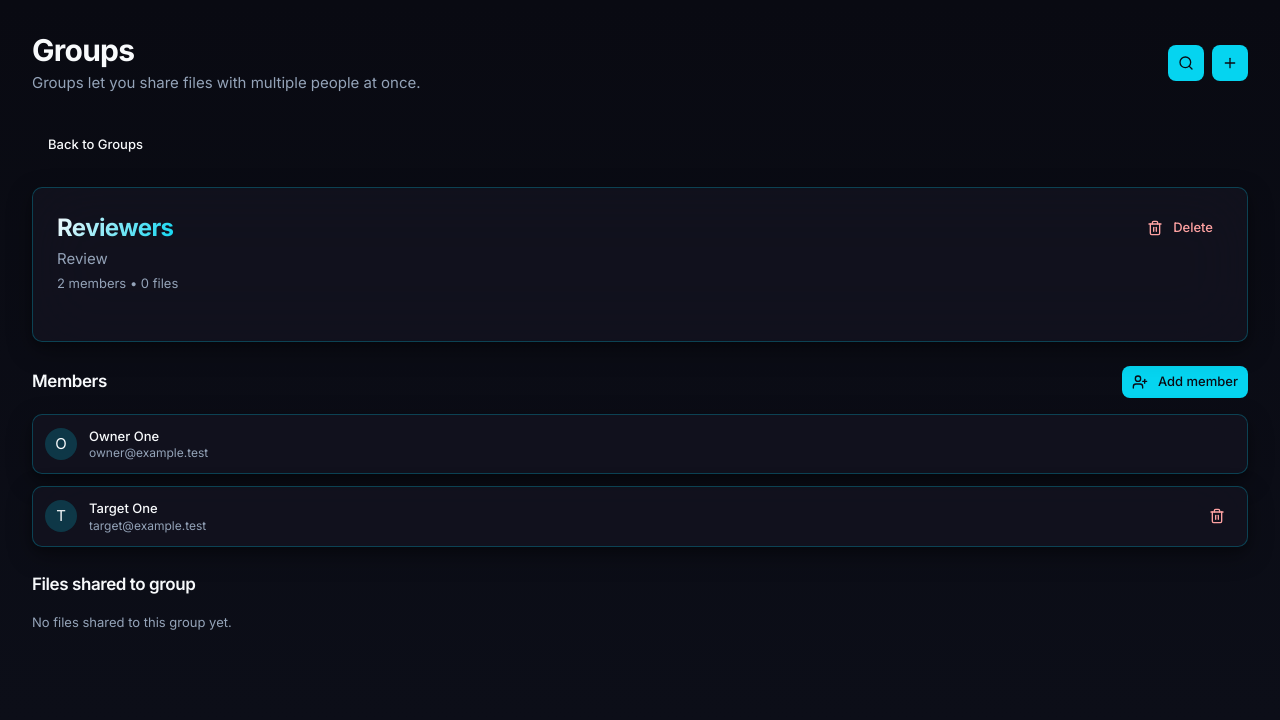
Test case: Groups data state › keeps the member visible and shows an alert when removal is not confirmed
Click the button named "Remove target" at (1217, 516), box 1199,500 -> 1235,532
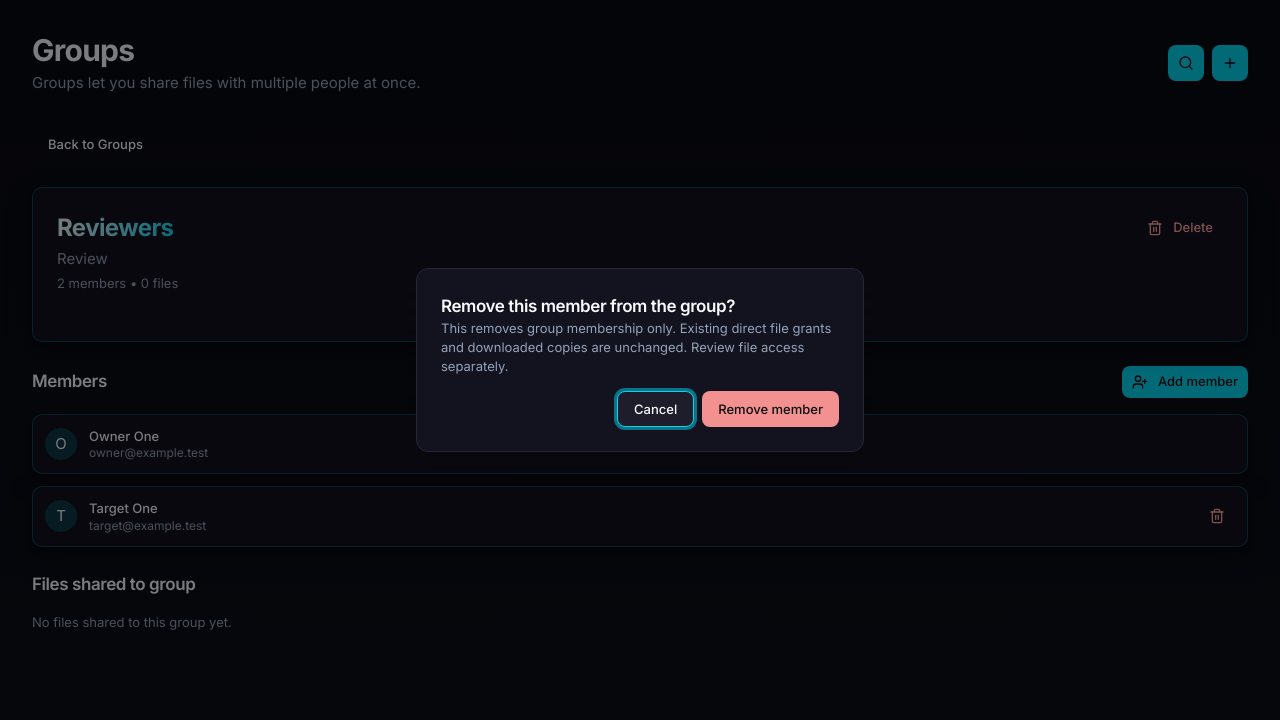
Click the button "Remove member" at (771, 409), box 702,391 -> 839,427
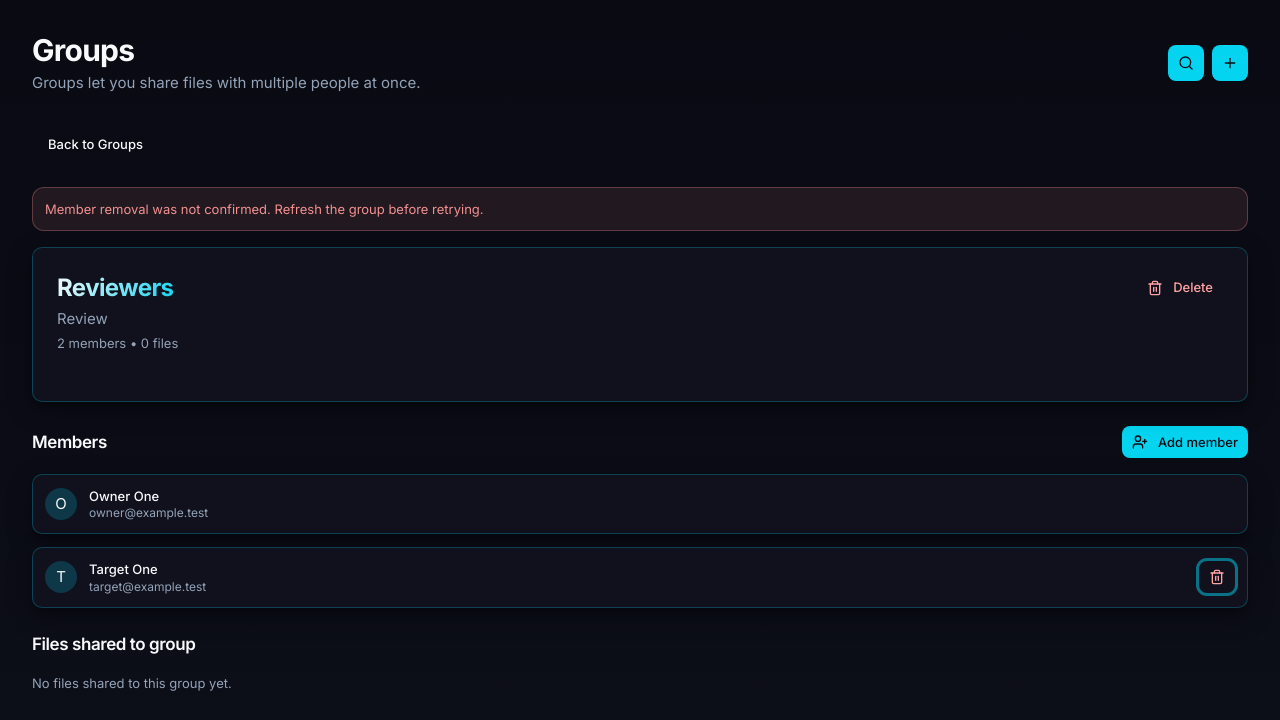
Expected: the button named "Remove target" is shown, 1199,561 -> 1235,593
Result: the message shows "Member removal was not confirmed" at 45,200 -> 484,216
